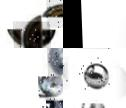ironball: (74, 56, 107, 88), (11, 21, 49, 48), (36, 76, 63, 100), (45, 48, 63, 77), (44, 0, 63, 27), (40, 94, 63, 107), (74, 103, 108, 107), (123, 58, 125, 107)
